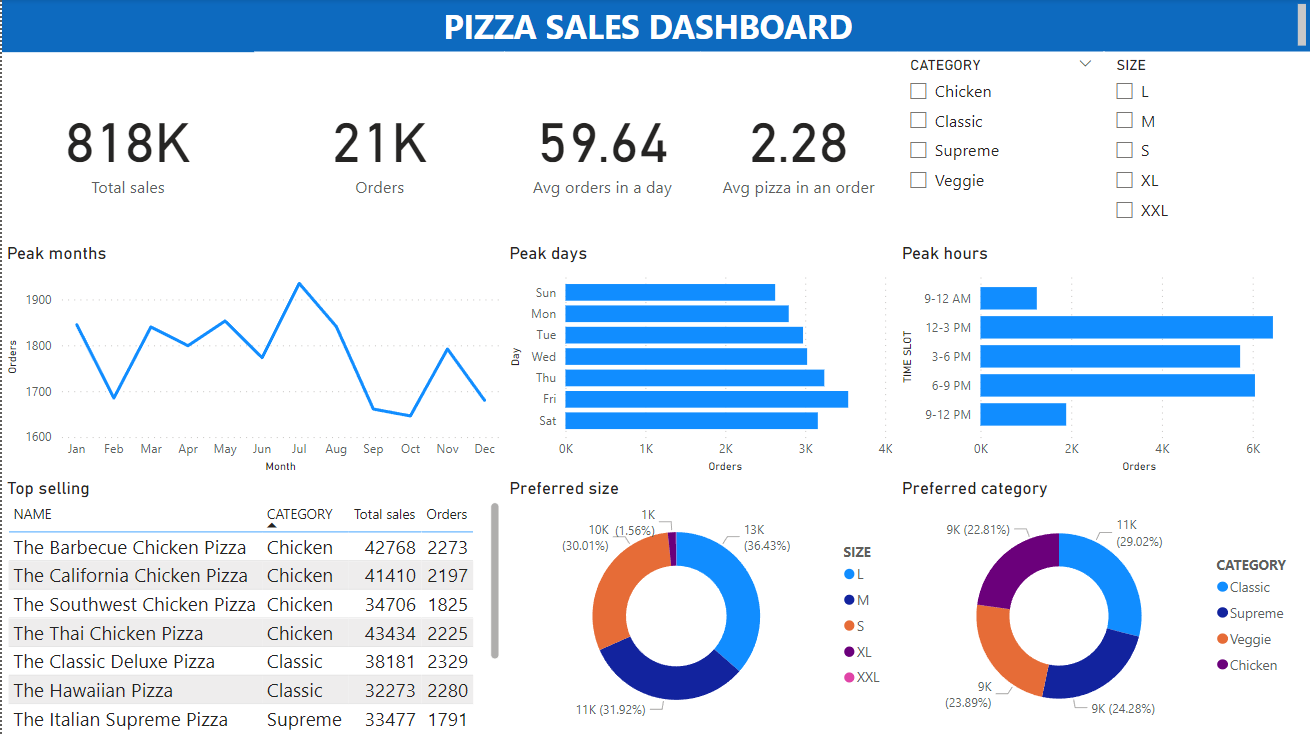

This screenshot's page, from the dashboard's own definition file:
{"tool":"powerbi","page":{"name":"Page 1","canvas":[1280,720],"ordinal":0},"visuals":[{"type":"textbox","box":[0,0,1280,51.7],"z":0},{"type":"barChart","title":"Peak hours","fields":{"Category":["ORDERS.TIME SLOT"],"Y":["All Measures.Orders"]},"box":[875.7,238.6,404.3,230],"z":1},{"type":"barChart","title":"Peak days","fields":{"Category":["DATE TABLE.Day"],"Y":["All Measures.Orders"]},"box":[491.4,238.6,384.3,230],"z":2},{"type":"lineChart","title":"Peak months","fields":{"Y":["All Measures.Orders"],"Category":["DATE TABLE.Month"]},"box":[0,238.6,491.4,230],"z":3},{"type":"donutChart","title":"Preferred category","fields":{"Y":["All Measures.Orders"],"Category":["PIZZA TYPES.CATEGORY"]},"box":[875.7,468.6,404.3,251.4],"z":4},{"type":"donutChart","title":"Preferred size","fields":{"Y":["All Measures.Orders"],"Category":["PIZZAS.SIZE"]},"box":[491.4,468.6,384.3,251.4],"z":5},{"type":"tableEx","title":"Top selling","fields":{"Values":["PIZZA TYPES.NAME","PIZZA TYPES.CATEGORY","All Measures.Total sales","All Measures.Orders"]},"box":[0,468.3,491.7,251.7],"z":6},{"type":"card","fields":{"Values":["All Measures.Total sales"]},"box":[0,51.7,246.7,186.7],"z":7},{"type":"card","fields":{"Values":["All Measures.Avg orders in a day"]},"box":[491.7,51.7,191.7,186.7],"z":8},{"type":"card","fields":{"Values":["All Measures.Avg pizza in an order"]},"box":[683.3,51.7,191.7,186.7],"z":9},{"type":"card","fields":{"Values":["All Measures.Orders"]},"box":[246.7,51.7,245,186.7],"z":10},{"type":"slicer","fields":{"Values":["PIZZA TYPES.CATEGORY"]},"box":[875,51.7,203.3,186.7],"z":11},{"type":"slicer","fields":{"Values":["PIZZAS.SIZE"]},"box":[1076.7,51.7,203.3,186.7],"z":12}]}

Visuals, with their boxes in screenshot pixels (x1, y1, x2, y2), scaled from the page's 1280x720 canvas onto the 1310x735 screenshot:
textbox: 0 0 1309 53
"Peak hours" barChart: 896 244 1309 478
"Peak days" barChart: 503 244 896 478
"Peak months" lineChart: 0 244 503 478
"Preferred category" donutChart: 896 478 1309 734
"Preferred size" donutChart: 503 478 896 734
"Top selling" tableEx: 0 478 503 734
card - All Measures.Total sales: 0 53 252 243
card - All Measures.Avg orders in a day: 503 53 699 243
card - All Measures.Avg pizza in an order: 699 53 896 243
card - All Measures.Orders: 252 53 503 243
slicer - PIZZA TYPES.CATEGORY: 896 53 1104 243
slicer - PIZZAS.SIZE: 1102 53 1309 243
